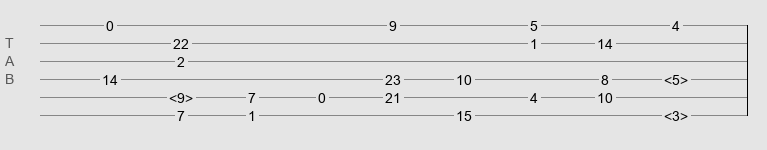0: (106, 18, 114, 28), (318, 90, 326, 100)
1: (248, 108, 256, 118), (530, 36, 538, 46)
10: (456, 72, 472, 82), (597, 90, 613, 100)
14: (102, 72, 118, 82), (597, 36, 613, 46)
15: (456, 108, 472, 118)
2: (177, 54, 185, 64)
21: (385, 90, 401, 100)
22: (173, 36, 189, 46)
23: (385, 72, 401, 82)
4: (530, 90, 538, 100), (672, 18, 680, 28)
5: (530, 18, 538, 28)
7: (177, 108, 185, 118), (248, 90, 256, 100)
8: (601, 72, 609, 82)
9: (389, 18, 397, 28)
harmonic: (169, 90, 193, 100), (664, 72, 688, 82), (664, 108, 688, 118)
